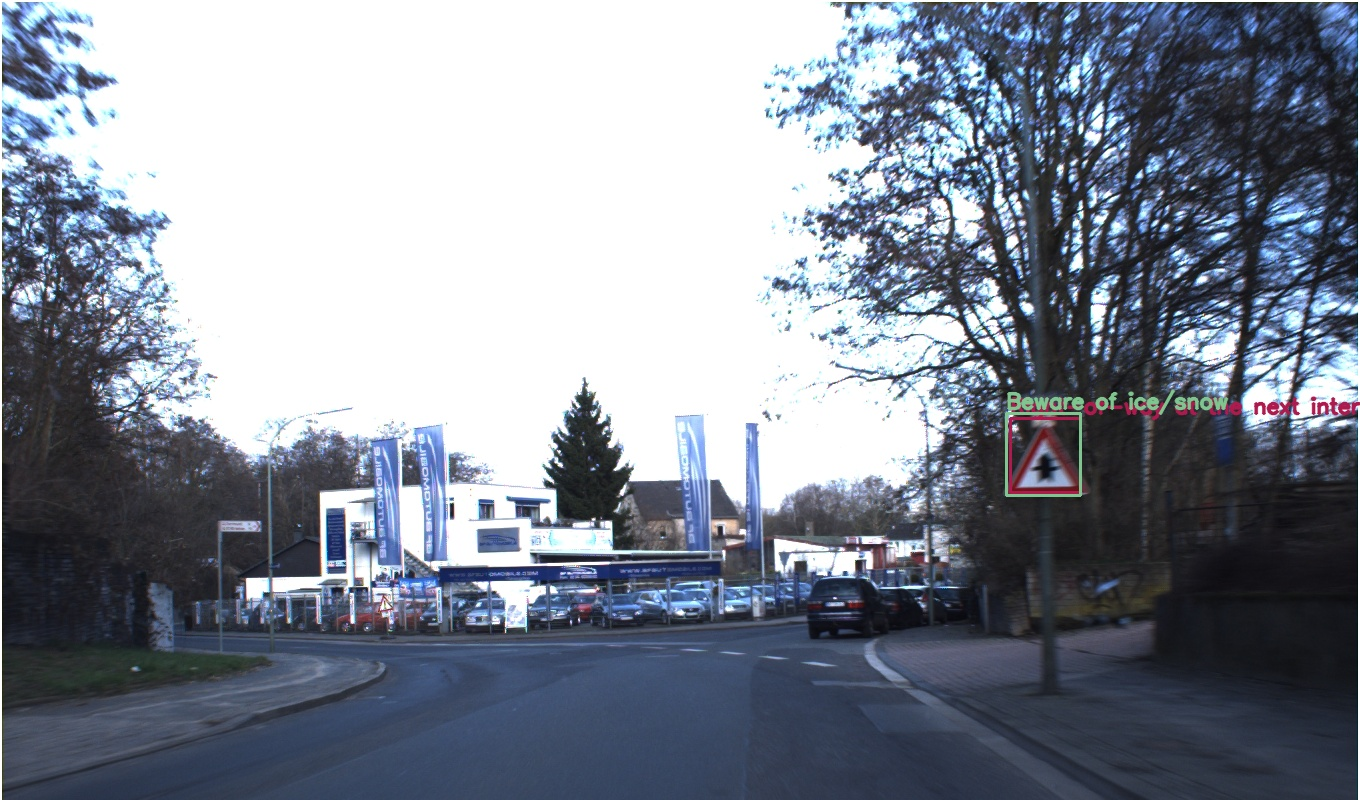Speed limit (50km/h): (675, 405, 709, 439), (161, 393, 194, 428)
